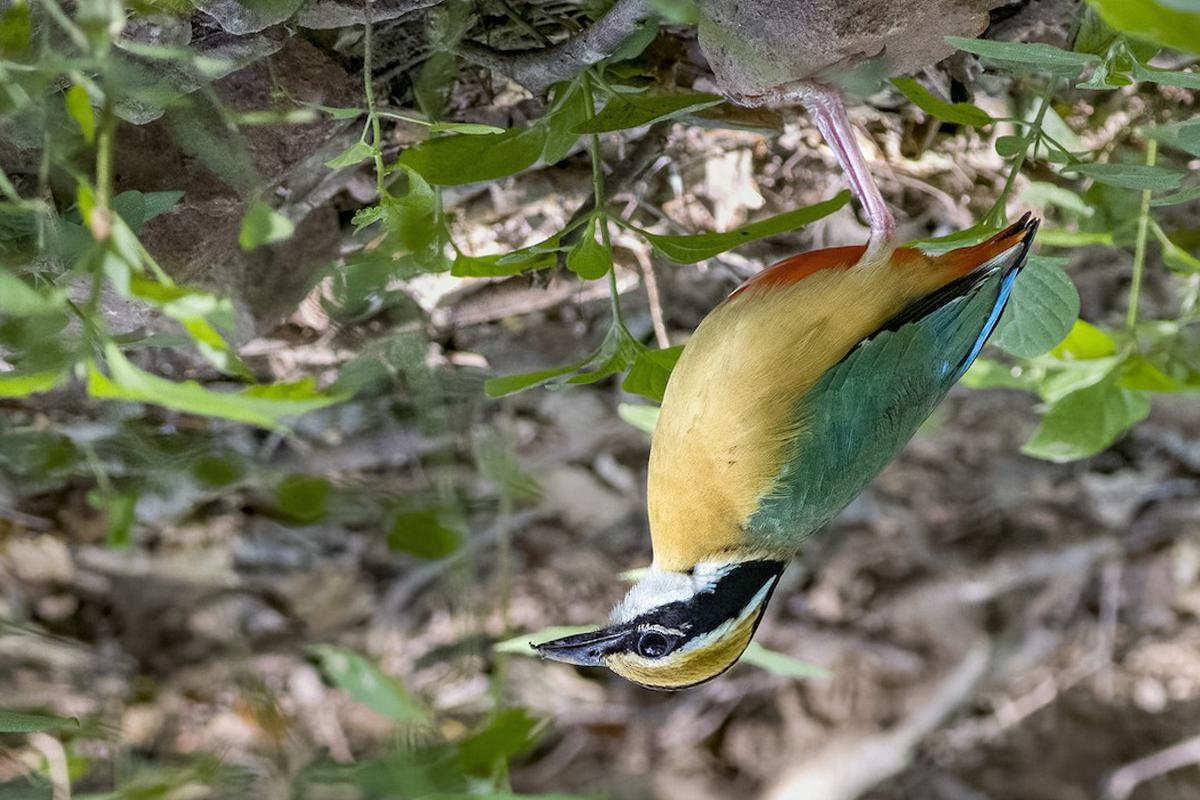pitta: (533, 136, 1084, 717)
